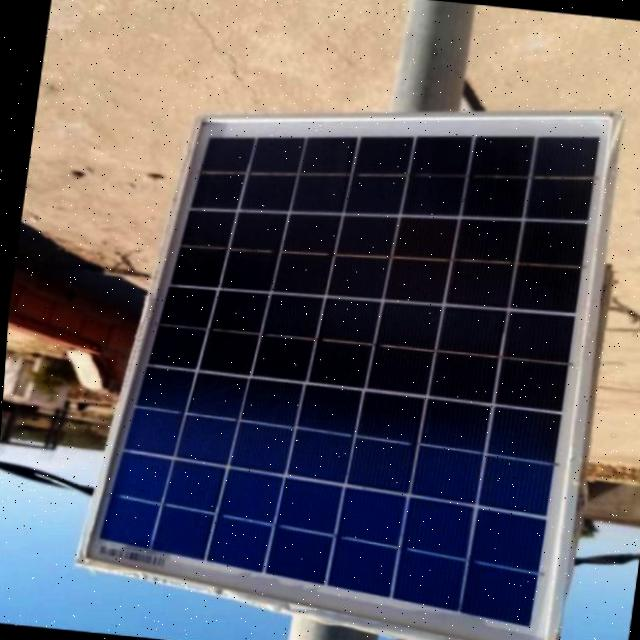Normal Solar Panel: (66, 65, 622, 640)
